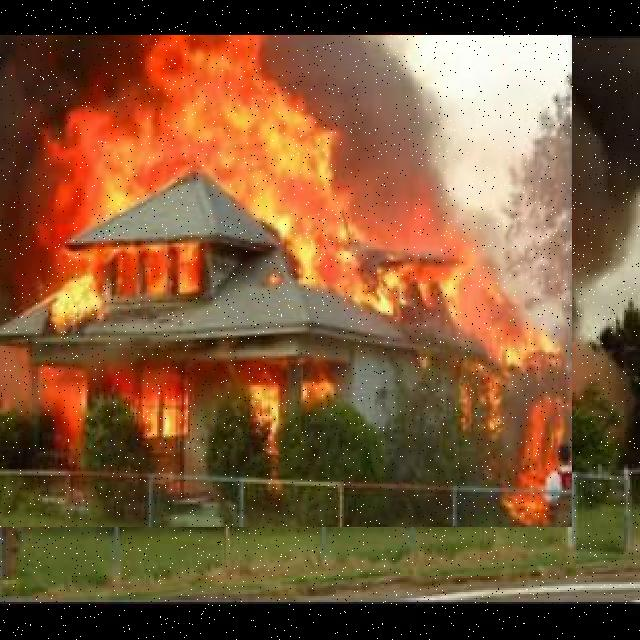fire: (0, 35, 572, 527)
